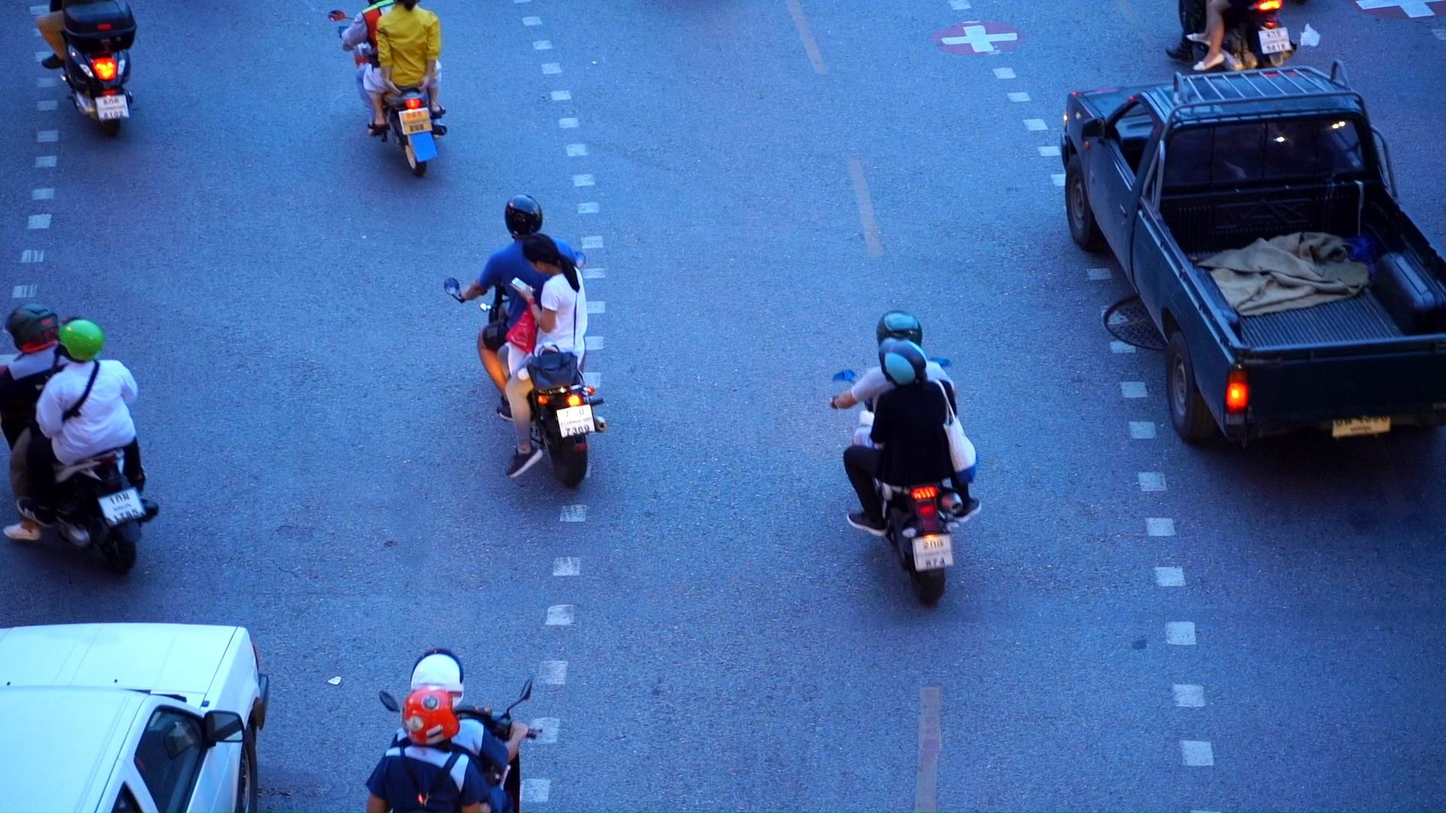driver: (445, 194, 607, 488), (830, 309, 982, 605), (0, 303, 160, 572), (363, 648, 543, 813), (328, 0, 448, 178), (36, 0, 137, 135), (1166, 0, 1298, 72)
helmet: (399, 686, 460, 747), (409, 648, 464, 711), (5, 303, 58, 354), (52, 316, 105, 365), (879, 337, 927, 389), (505, 194, 543, 241), (876, 310, 923, 348)
no-helmet: (522, 233, 578, 277)
